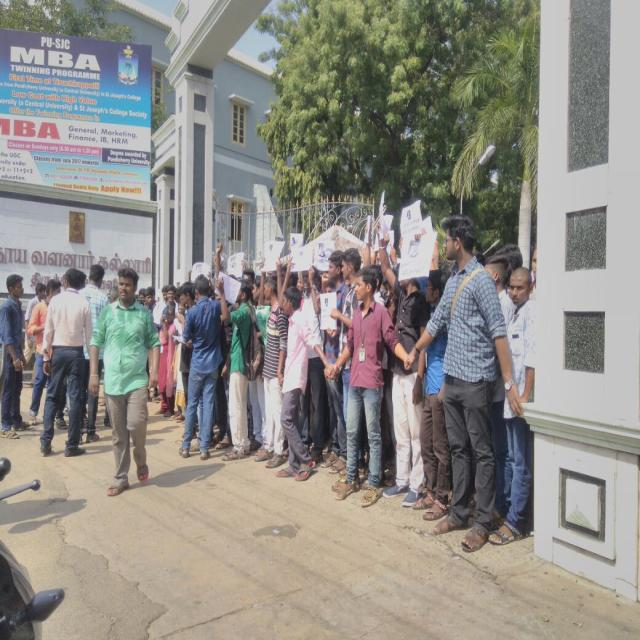body: (405, 212, 525, 554), (329, 264, 412, 508), (87, 264, 162, 498), (376, 215, 430, 509), (488, 266, 536, 546), (274, 284, 336, 482), (38, 265, 99, 459), (414, 266, 454, 522), (215, 274, 264, 461), (175, 273, 223, 460), (483, 254, 516, 520), (329, 247, 366, 478), (253, 272, 290, 468), (357, 262, 389, 476), (26, 275, 69, 431), (296, 263, 328, 466), (321, 250, 349, 474), (77, 263, 111, 447), (0, 270, 32, 440), (214, 242, 238, 452), (246, 276, 272, 454), (126, 459, 225, 492), (176, 280, 198, 412), (23, 281, 48, 388), (157, 304, 178, 418), (416, 217, 454, 276), (492, 242, 524, 295), (364, 208, 388, 264), (156, 283, 179, 327), (160, 284, 178, 323), (270, 262, 294, 289), (297, 393, 310, 441), (172, 303, 188, 336), (528, 242, 537, 300), (473, 236, 486, 265), (142, 288, 155, 314), (81, 390, 88, 438), (315, 271, 330, 293), (241, 268, 256, 287), (146, 286, 157, 311), (380, 280, 390, 304), (207, 272, 216, 296), (109, 280, 119, 301), (103, 407, 112, 430), (138, 287, 148, 305), (79, 270, 88, 287), (296, 271, 304, 289), (175, 286, 182, 303)
